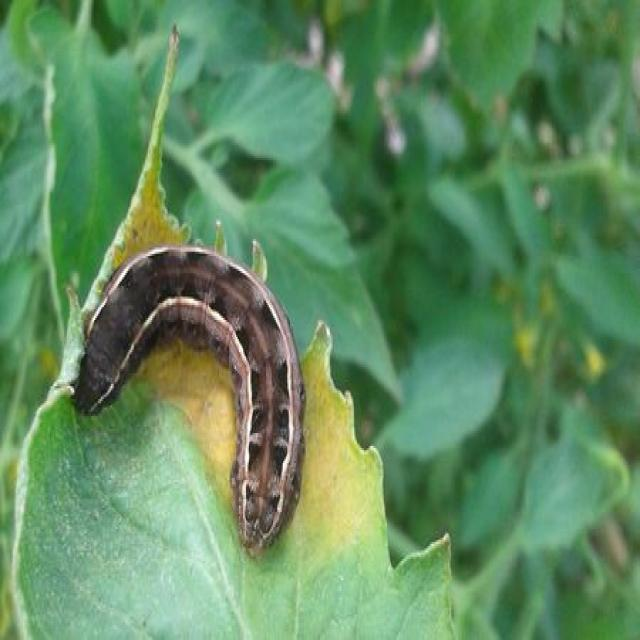Cutworm: (71, 250, 306, 564)
